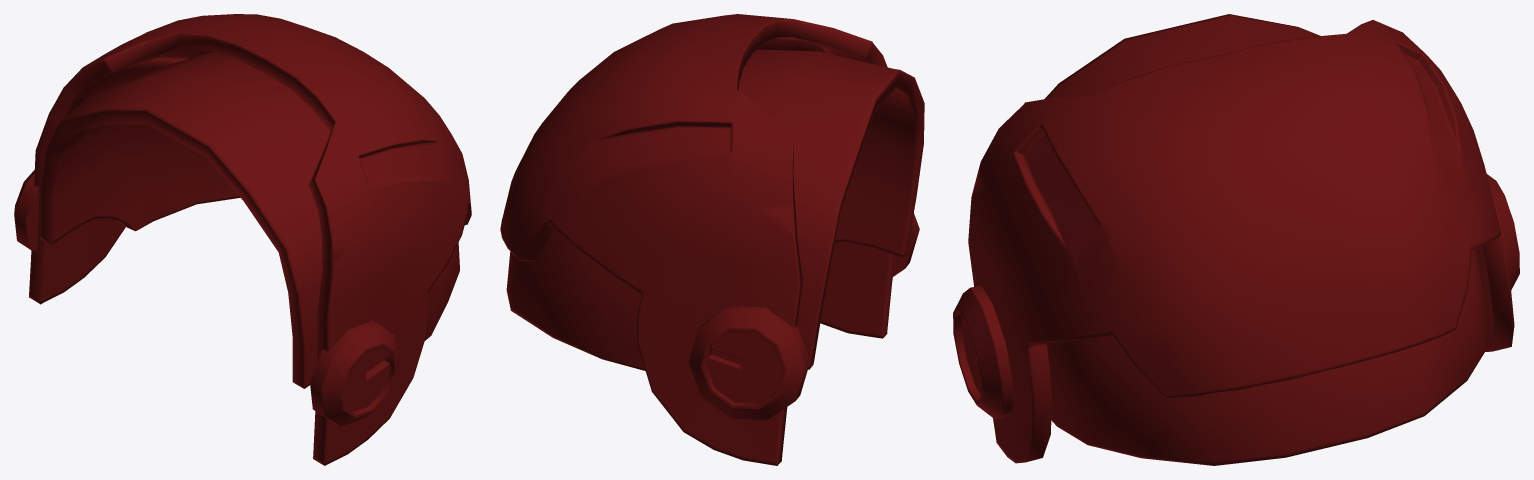
File: ileftshoulder.obj
3 views of the same model, side by side, from view 1: azimuth 30°, elevation 25°; view 2: azimuth 150°, elevation 25°; view 3: azimuth 270°, elevation 25° (orthographic). The views are drawn at different scales.
Visible parts, largest first — view 1: HD_Ironman:polySurface3970; view 2: HD_Ironman:polySurface3970; view 3: HD_Ironman:polySurface3970.
Part boxes in pixels (x1=…): HD_Ironman:polySurface3970: x1=14, y1=14, x2=471, y2=465; HD_Ironman:polySurface3970: x1=500, y1=14, x2=924, y2=465; HD_Ironman:polySurface3970: x1=953, y1=14, x2=1519, y2=465.
Bounding box in the file's own units: 1.92 × 1.8 × 2.24.
